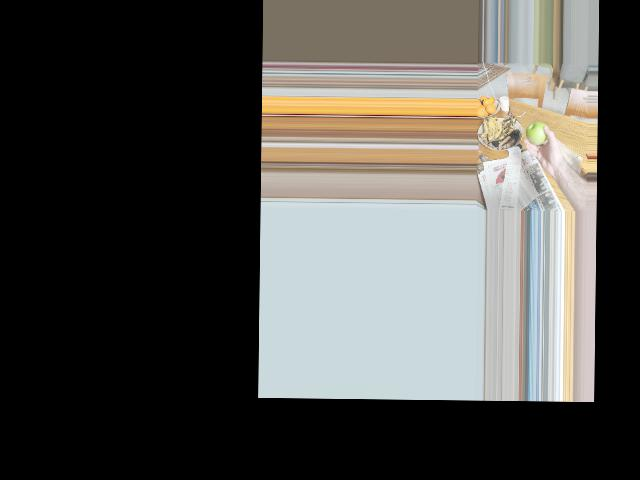apple: (525, 120, 551, 149)
